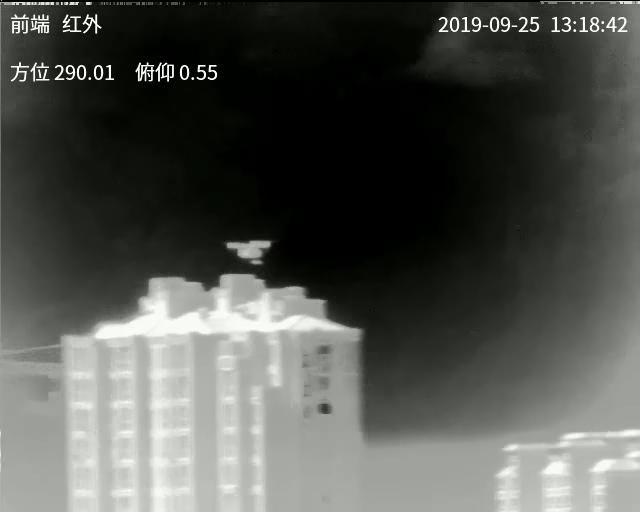uav: (225, 238, 270, 264)
